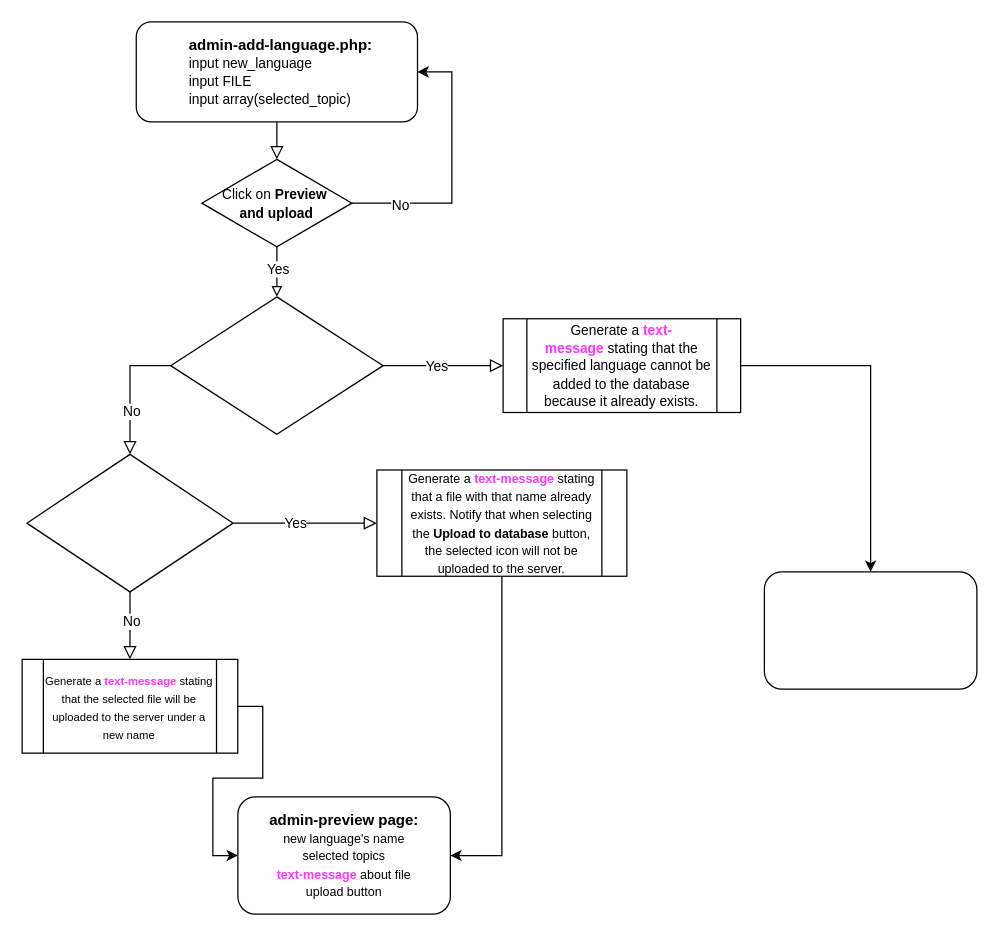
Some shapes in this 999 by 936 pixel diagram are drawn without their labels. Here are the shapes that lost their labels. From the top down, the centre of each, then its label:
At pixel 276 365: "Validation: Is there a language in the DB with the specified name?".
At pixel 129 522: "Validation: Is there a file in the folder images with the specified name?".
At pixel 870 630: "ERROR page: text-message return button".
